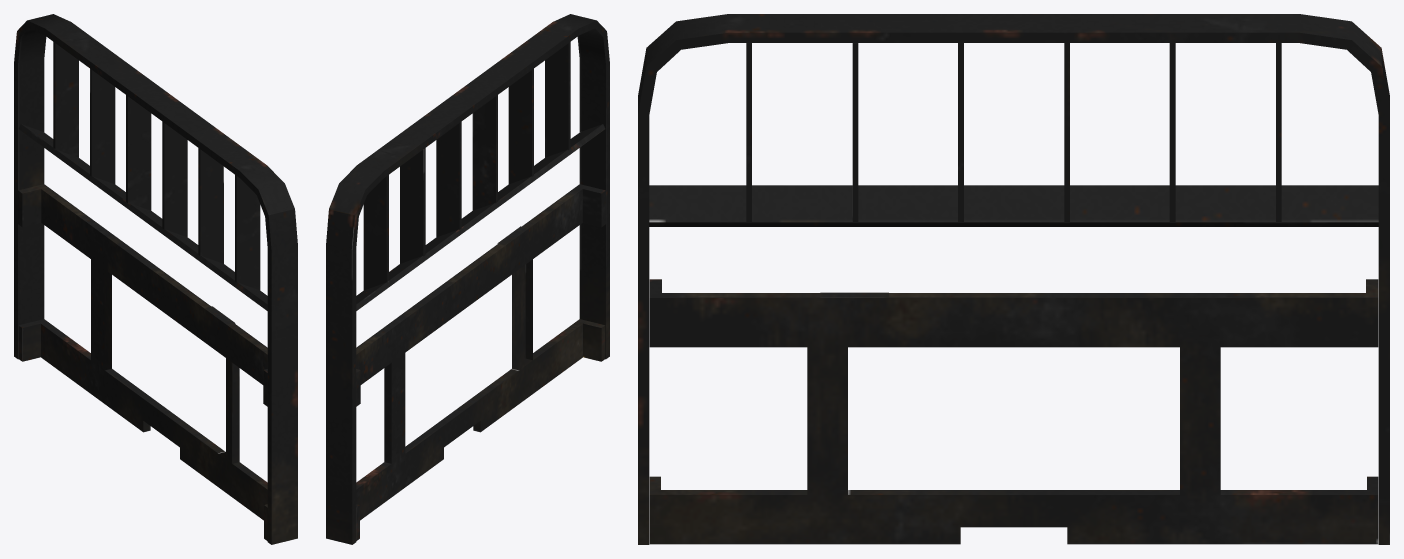
The model's file is fork_plate.dae.
3 views of the same model, side by side, from view 1: azimuth 30°, elevation 25°; view 2: azimuth 150°, elevation 25°; view 3: azimuth 270°, elevation 25° (orthographic). The views are drawn at different scales.
Parts seen in each view (by area): view 1: Loader_car_Loader_car_Material_0.004; view 2: Loader_car_Loader_car_Material_0.004; view 3: Loader_car_Loader_car_Material_0.004.
Part boxes in pixels (<box>): Loader_car_Loader_car_Material_0.004: <box>14,14,297,544</box>; Loader_car_Loader_car_Material_0.004: <box>326,14,609,544</box>; Loader_car_Loader_car_Material_0.004: <box>638,14,1389,544</box>.
Size of the model in its own units: 7.06 by 118 by 88.35.
Materials: 1 (1 with a texture image).
